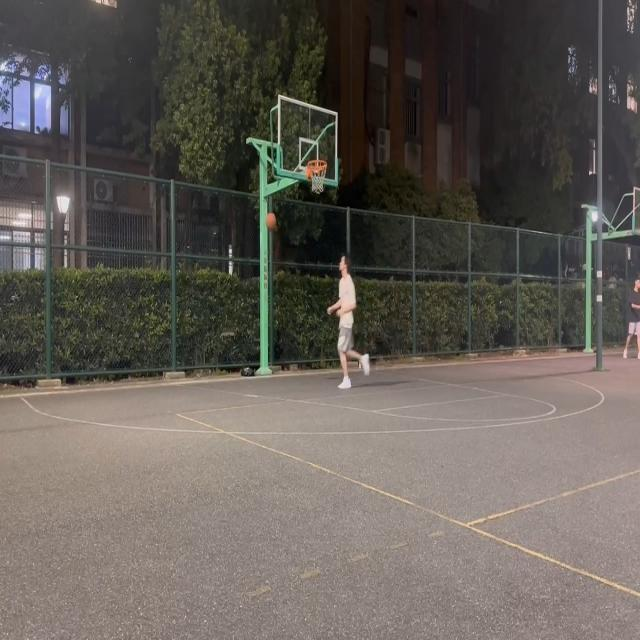basketball: (306, 160, 327, 194)
rim: (266, 213, 277, 230)
